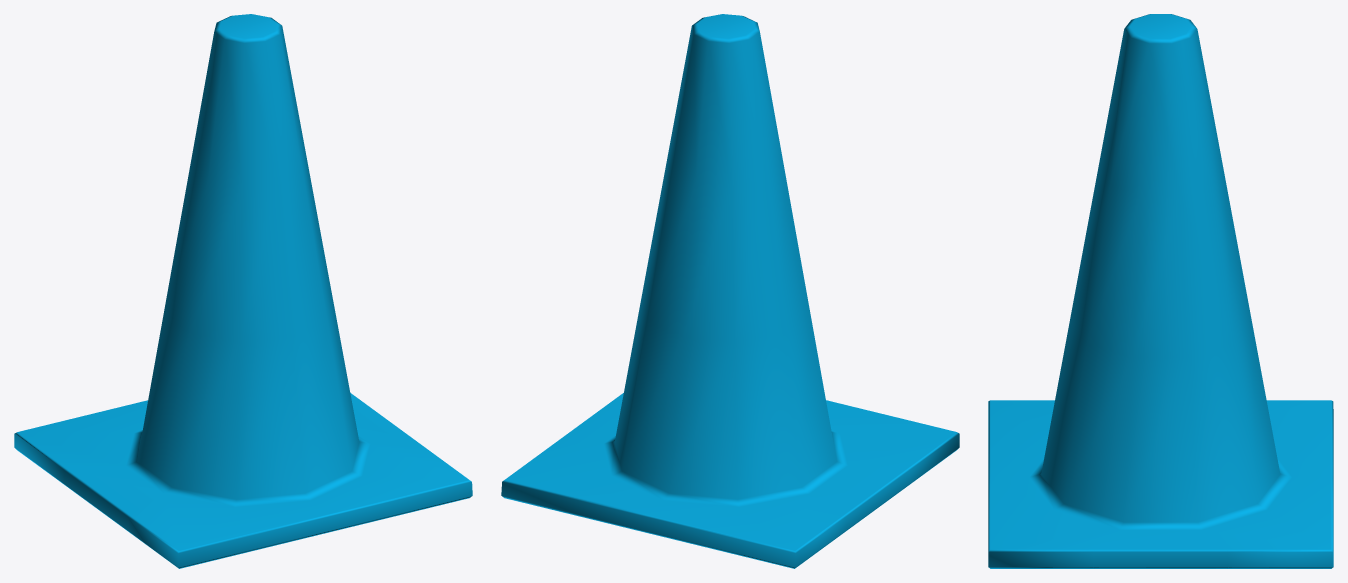
Rendered from Traffic_Cone_01_Lod0.fbx.
3 views of the same model, side by side, from view 1: azimuth 30°, elevation 25°; view 2: azimuth 150°, elevation 25°; view 3: azimuth 270°, elevation 25° (orthographic). The views are drawn at different scales.
Visible parts, largest first — view 1: Traffic_Cone_01_Lod0; view 2: Traffic_Cone_01_Lod0; view 3: Traffic_Cone_01_Lod0.
Boxes of the visible parts, bbox=[...] form: Traffic_Cone_01_Lod0: bbox=[14, 14, 472, 568]; Traffic_Cone_01_Lod0: bbox=[501, 14, 959, 568]; Traffic_Cone_01_Lod0: bbox=[988, 14, 1333, 568].
Bounding box in the file's own units: 31.96 × 46.37 × 30.87.
